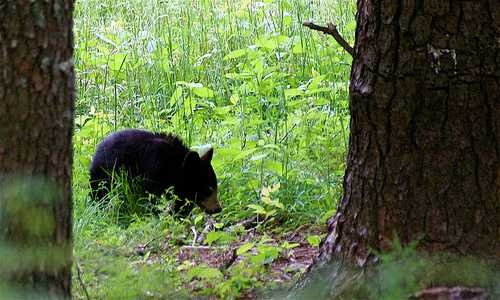bear: (91, 108, 219, 236)
